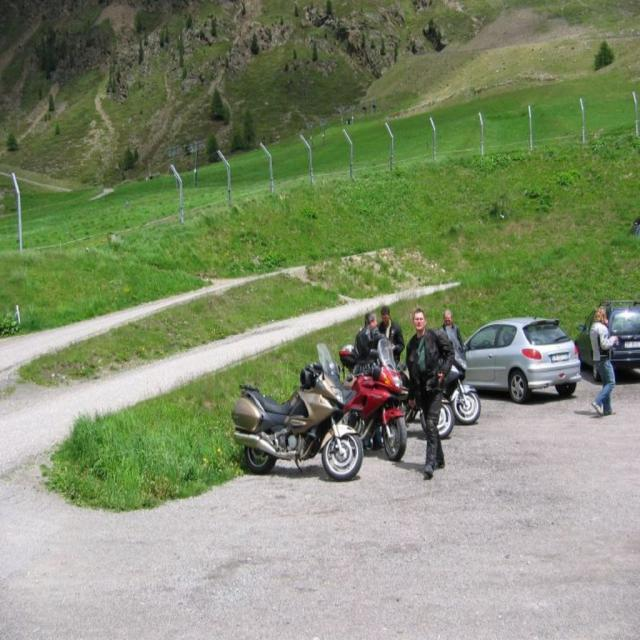bus: (225, 341, 364, 483), (326, 335, 410, 458), (441, 323, 478, 422), (402, 368, 448, 429)
